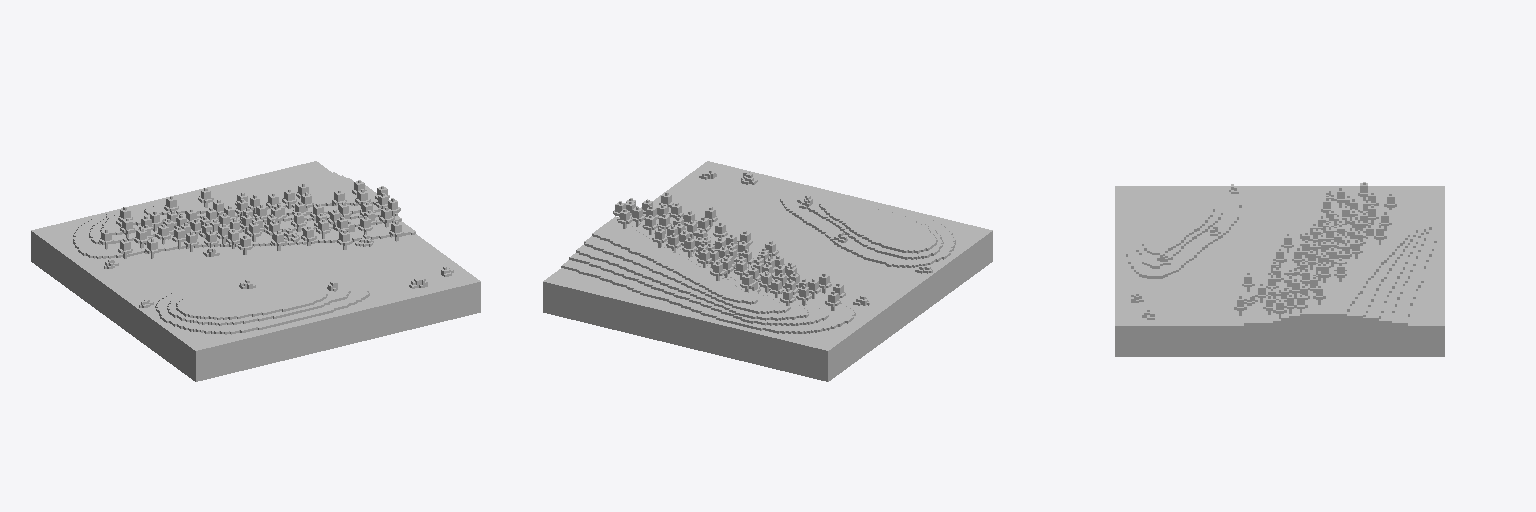
The model's file is Map (24).obj.
3 views of the same model, side by side, from view 1: azimuth 30°, elevation 25°; view 2: azimuth 150°, elevation 25°; view 3: azimuth 270°, elevation 25° (orthographic).
Visible parts, largest first — view 1: ALL MAP!!!!!!!!!!!-21; view 2: ALL MAP!!!!!!!!!!!-21; view 3: ALL MAP!!!!!!!!!!!-21.
Boxes of the visible parts, <box> form: ALL MAP!!!!!!!!!!!-21: <box>31,161,480,381</box>; ALL MAP!!!!!!!!!!!-21: <box>543,161,992,381</box>; ALL MAP!!!!!!!!!!!-21: <box>1115,182,1444,356</box>.
Bounding box in the file's own units: 125 × 26 × 125.